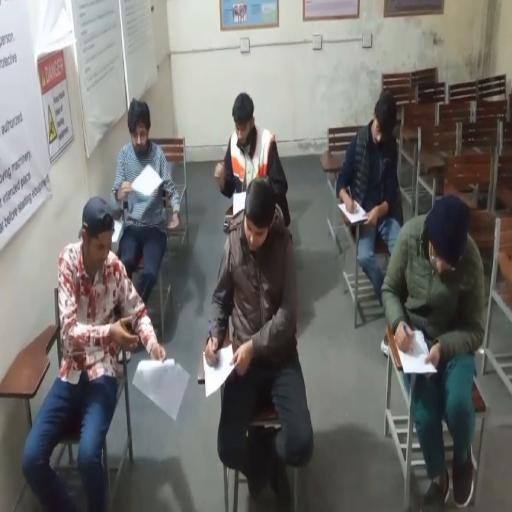paper: (135, 358, 190, 410), (127, 164, 164, 218), (396, 328, 437, 374), (203, 343, 236, 397), (338, 200, 368, 225), (233, 190, 246, 216)
